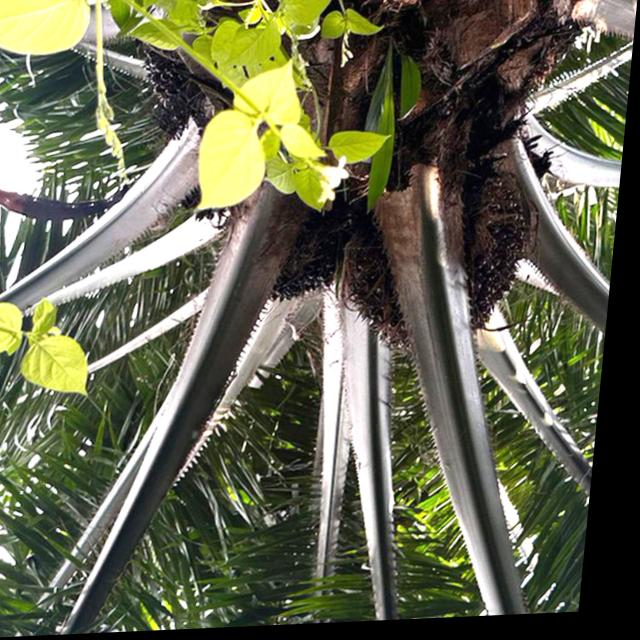unripe: (247, 204, 362, 314)
